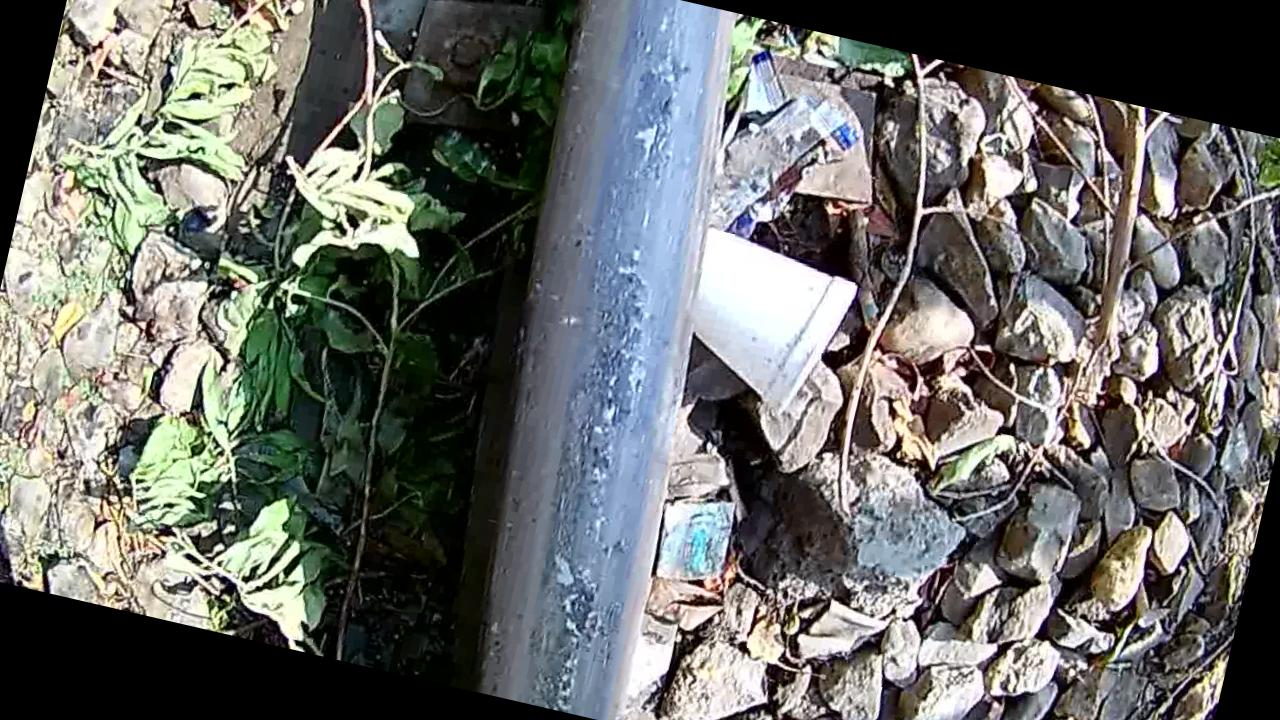crack: (439, 0, 763, 720)
